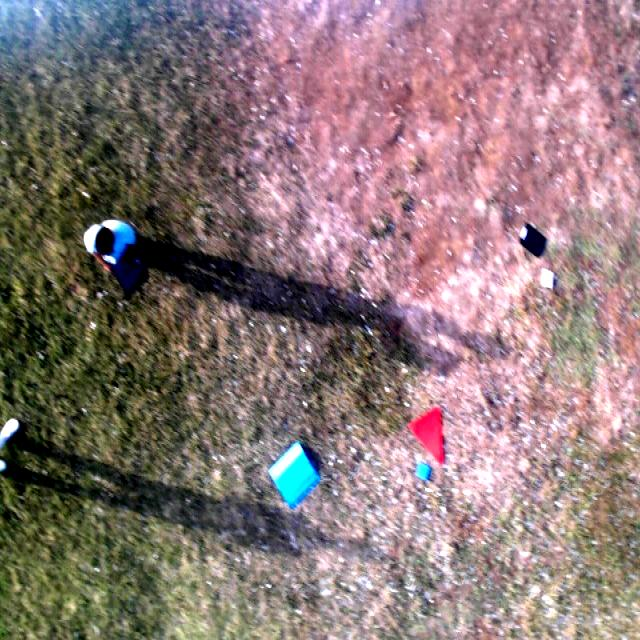blue_square: (269, 442, 320, 511), (417, 461, 431, 482)
red_triangle: (408, 404, 449, 467)
